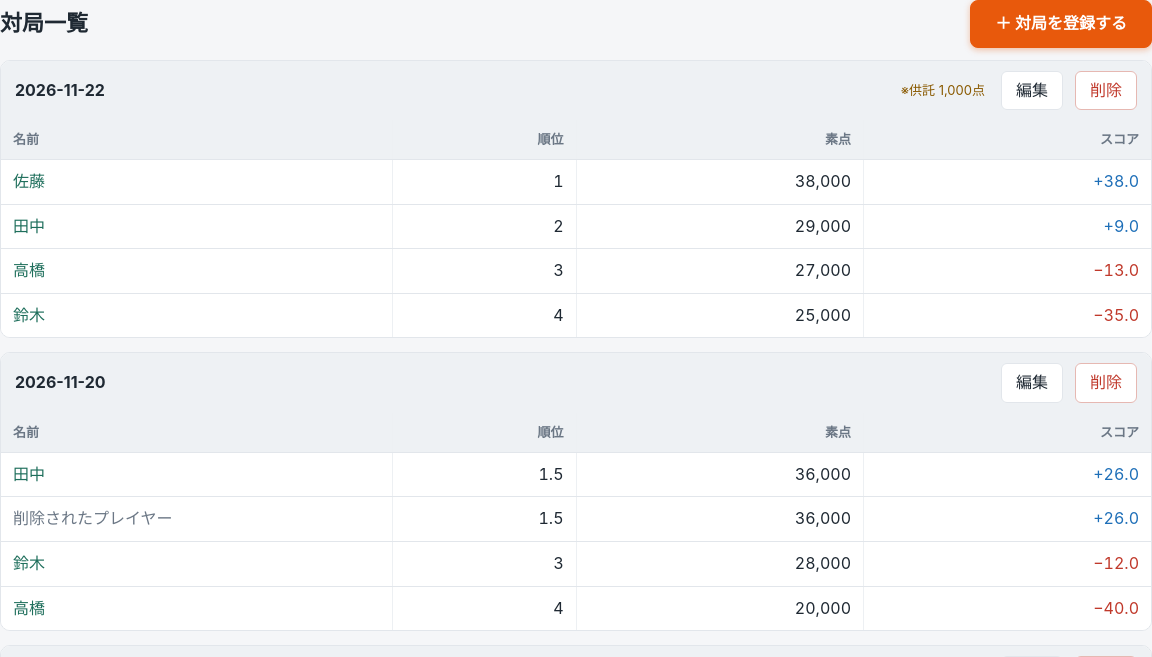
Test: 削除 › 削除に失敗したときは、エラーを表示し、一覧を最新にする
Expected: the text "2026-11-22" is shown, [15,78,105,103]
Click the button "削除" in the row of "※供託": [1106, 90] box [1075,71,1137,110]
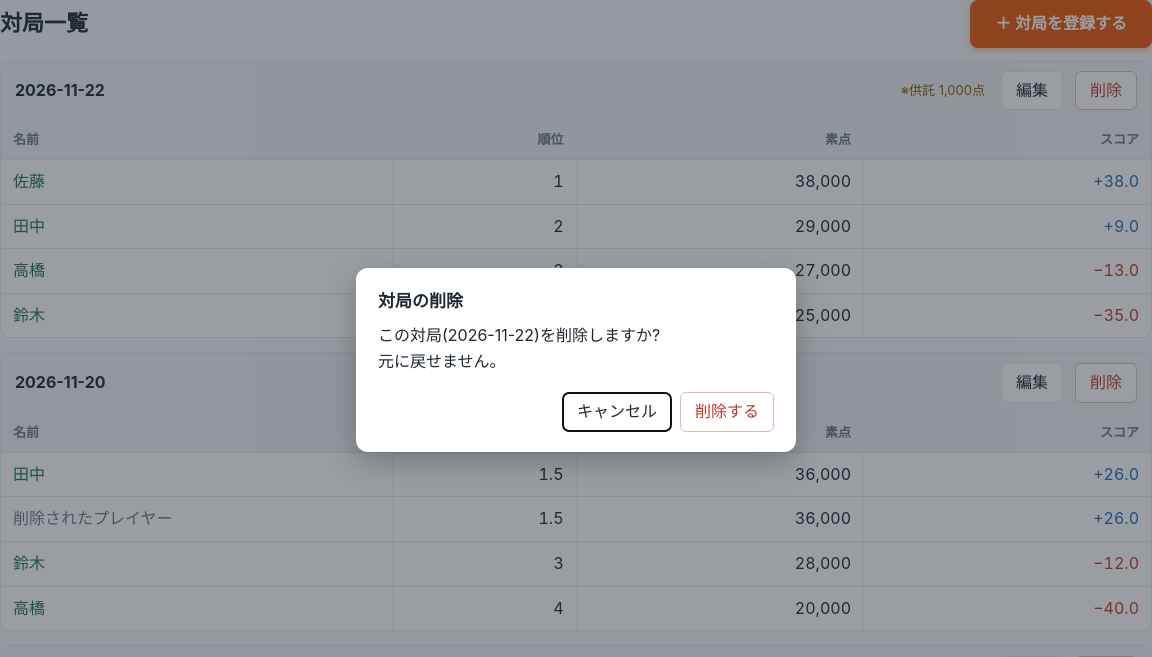
Click the button "削除する": [727, 412] box [680,392,774,432]
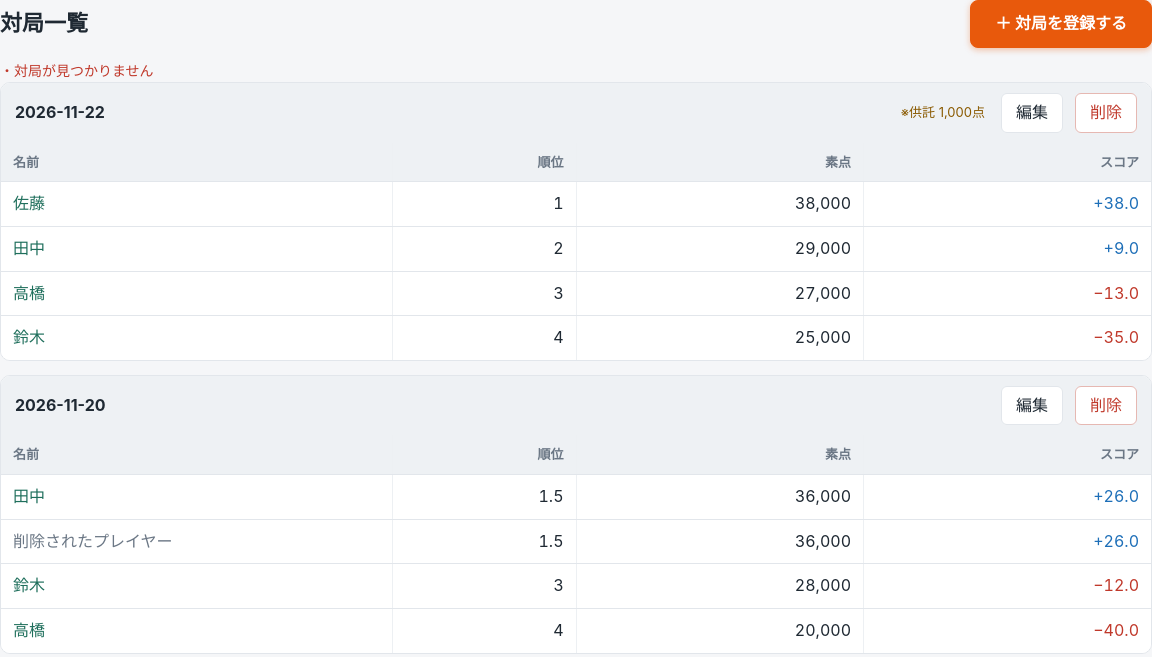
Now the text "対局が見つかりません" is shown, box [14,62,154,79]
